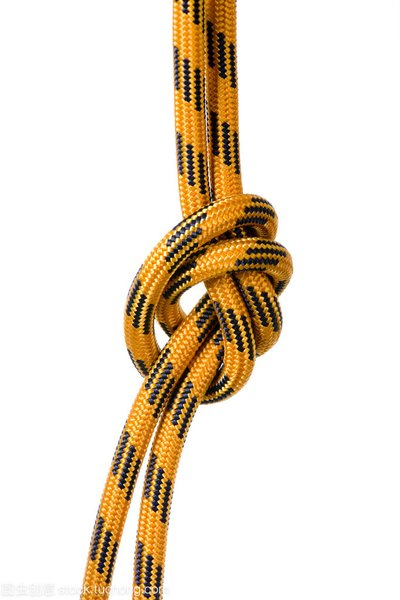9/可回收垃圾/绳子: (78, 1, 295, 600)
